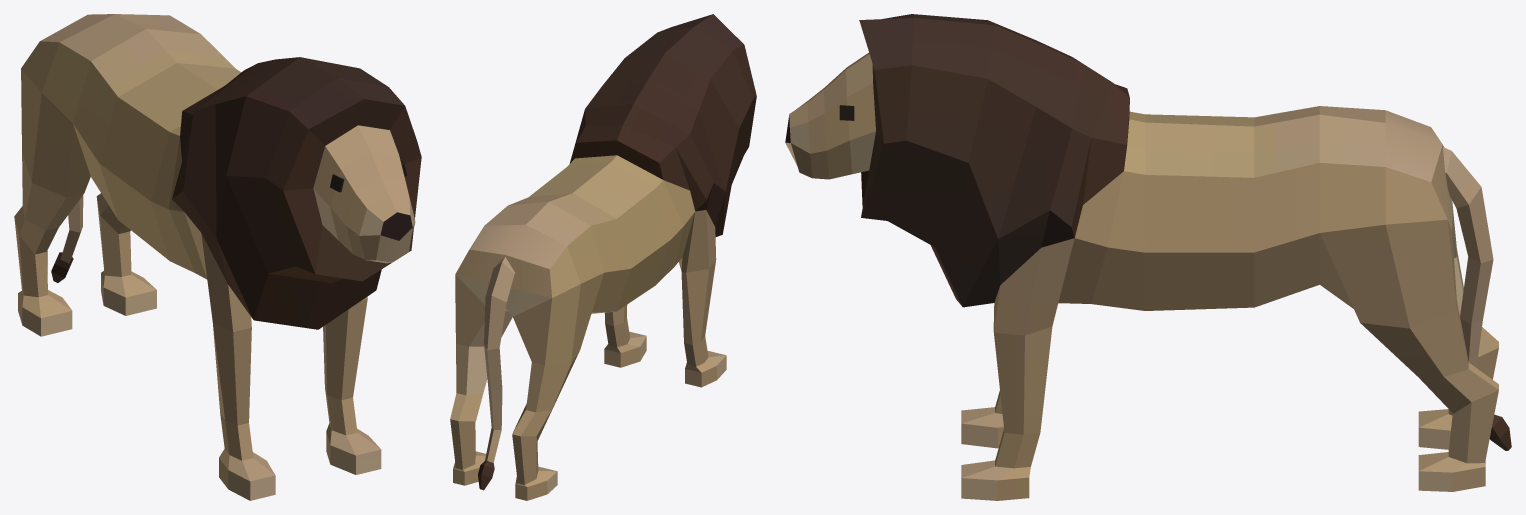
Rendered from animals-lion-138.glb.
The picture shows the model from 3 angles, left to right: view 1: azimuth 30°, elevation 25°; view 2: azimuth 150°, elevation 25°; view 3: azimuth 270°, elevation 25°; orthographic projection. The views are drawn at different scales.
Parts seen in each view (by area): view 1: Geo_Lion; view 2: Geo_Lion; view 3: Geo_Lion.
Boxes of the visible parts, <box> form: Geo_Lion: <box>14,14,421,500</box>; Geo_Lion: <box>450,14,756,500</box>; Geo_Lion: <box>785,14,1511,500</box>.
Bounding box in the file's own units: 64.73 × 143 × 211.
Materials: 1 (1 with a texture image).
